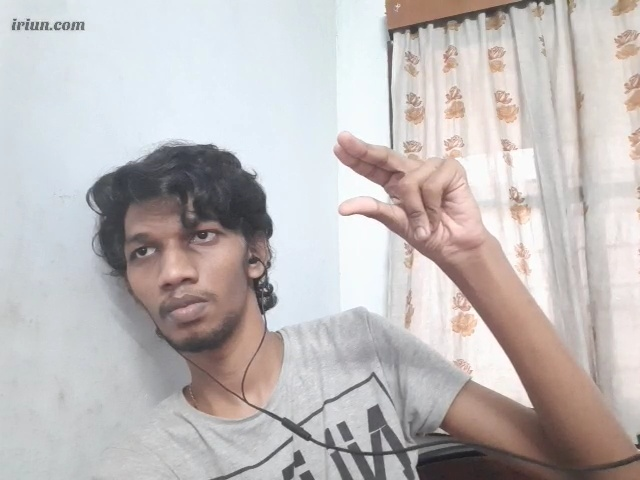No: (332, 132, 488, 255)
